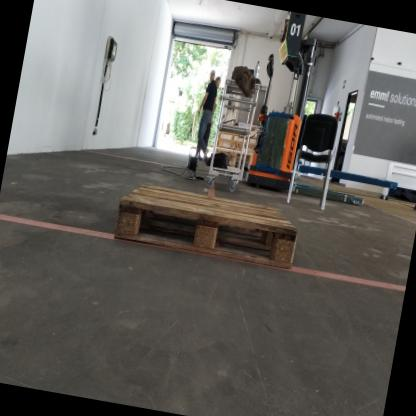BoxFace: (112, 183, 301, 279)
